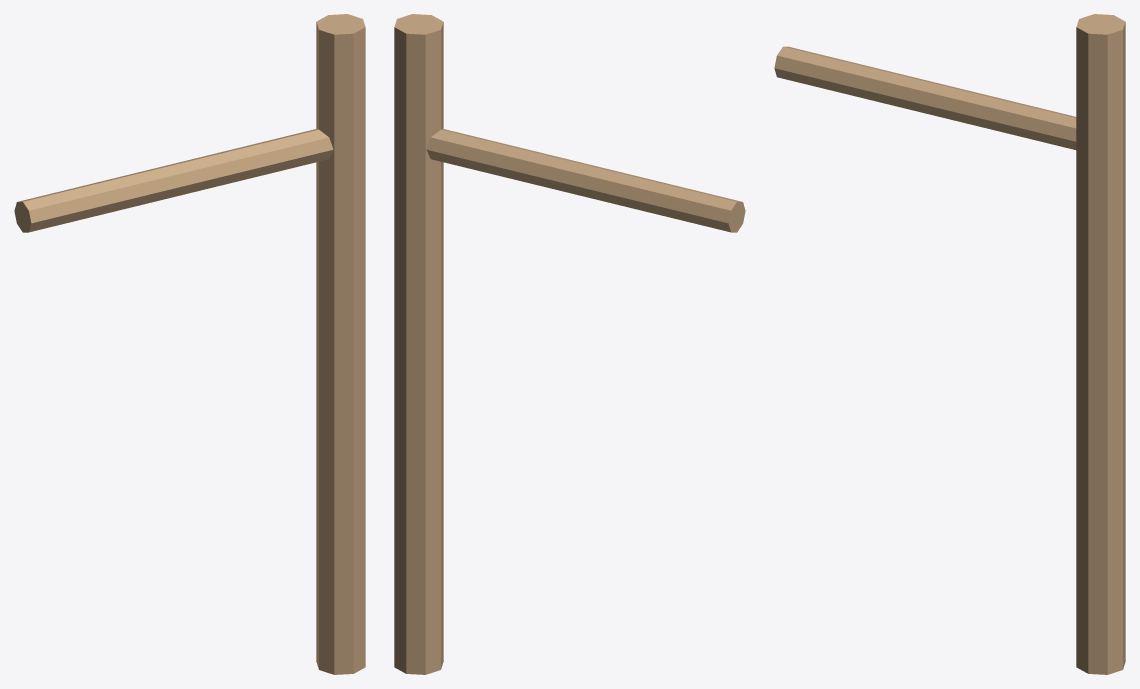
File: escalera.glb
The picture shows the model from 3 angles, left to right: view 1: azimuth 30°, elevation 25°; view 2: azimuth 150°, elevation 25°; view 3: azimuth 330°, elevation 25°; orthographic projection.
Visible parts, largest first — view 1: larguero, peldaño; view 2: larguero, peldaño; view 3: larguero, peldaño.
Boxes of the visible parts, x1,y1,x2,y2 form: larguero: (316,14,365,674); peldaño: (14,128,333,232); larguero: (394,14,443,674); peldaño: (426,128,745,232); larguero: (1076,14,1125,674); peldaño: (774,46,1076,149).
Size of the model in its own units: 0.5004 by 0.9 by 0.0648.
